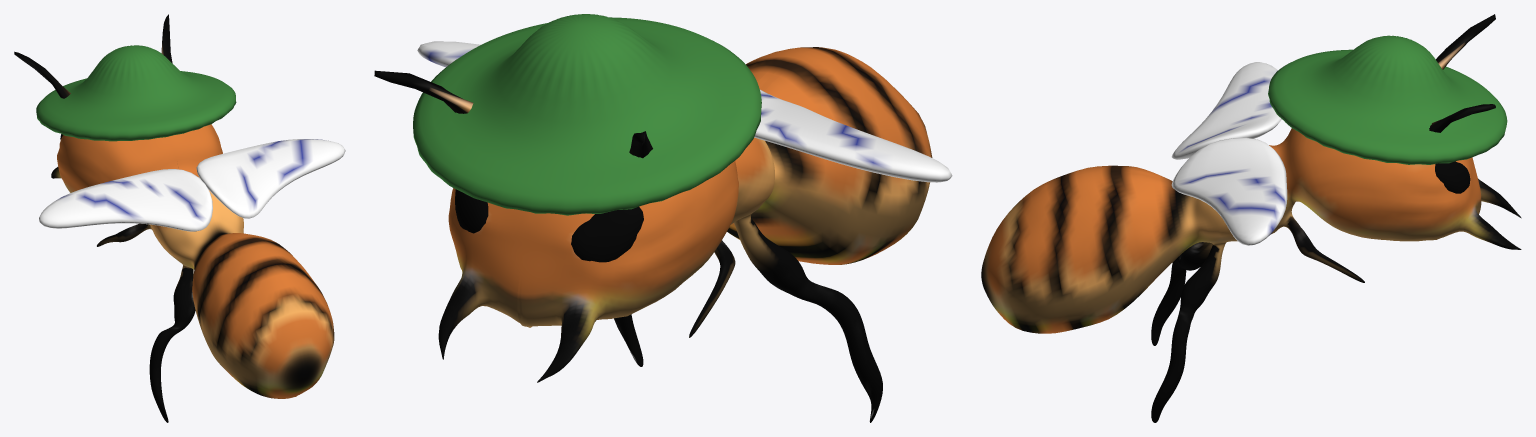
File: soldier_bee.fbx
The picture shows the model from 3 angles, left to right: view 1: azimuth 30°, elevation 25°; view 2: azimuth 150°, elevation 25°; view 3: azimuth 270°, elevation 25°; orthographic projection. The views are drawn at different scales.
Visible parts, largest first — view 1: Cube.001, Plane, Circle; view 2: Cube.001, Circle, Plane, Sphere; view 3: Cube.001, Circle, Plane, Sphere.
Boxes of the visible parts, bbox=[...] form: Cube.001: bbox=[14, 14, 334, 422]; Plane: bbox=[39, 139, 345, 231]; Circle: bbox=[36, 45, 236, 141]; Cube.001: bbox=[374, 47, 932, 422]; Circle: bbox=[413, 14, 761, 215]; Plane: bbox=[417, 41, 952, 182]; Sphere: bbox=[455, 189, 643, 262]; Cube.001: bbox=[981, 14, 1521, 422]; Circle: bbox=[1268, 35, 1507, 164]; Plane: bbox=[1171, 62, 1287, 245]; Sphere: bbox=[1435, 161, 1470, 193].
Bounding box in the file's own units: 165 × 148 × 211.
